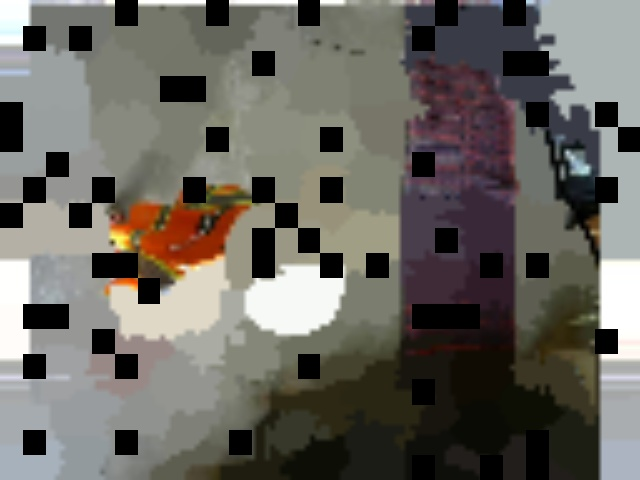eight: (250, 222, 291, 270)
